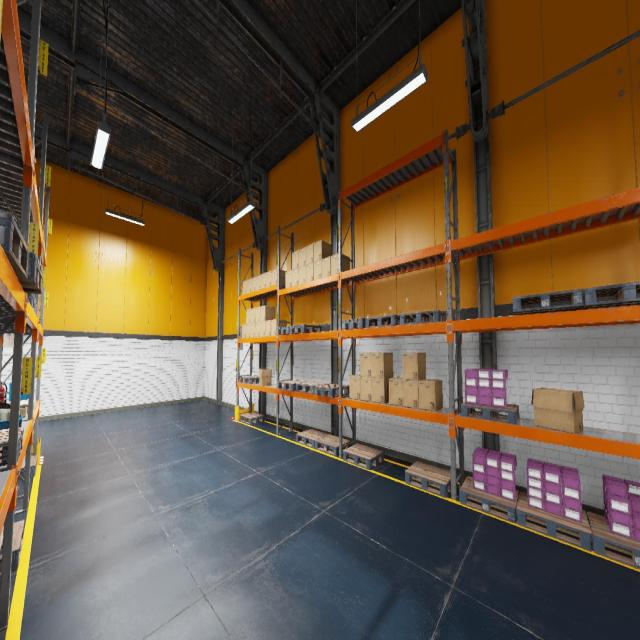box: (532, 388, 584, 433), (418, 379, 442, 412), (402, 352, 426, 380), (371, 352, 393, 378), (372, 377, 393, 403), (403, 380, 419, 408), (330, 254, 350, 275), (389, 377, 403, 406), (314, 240, 332, 261), (360, 376, 372, 401), (349, 374, 360, 400), (271, 268, 286, 286), (360, 353, 371, 377), (271, 319, 286, 335), (260, 305, 275, 321), (258, 369, 272, 385), (322, 256, 330, 277), (298, 246, 306, 266), (298, 265, 306, 284), (306, 262, 313, 282), (314, 260, 321, 280), (306, 244, 313, 264), (285, 270, 292, 288), (292, 250, 298, 269), (292, 268, 298, 286), (20, 399, 28, 412), (260, 272, 266, 288), (8, 400, 24, 405), (265, 320, 270, 336), (250, 322, 255, 338), (255, 306, 260, 322), (266, 271, 271, 287), (251, 276, 256, 292), (260, 321, 265, 336), (256, 275, 261, 290), (19, 407, 26, 417), (255, 322, 260, 336), (250, 308, 255, 322), (246, 308, 250, 324), (246, 323, 250, 338), (242, 323, 246, 338), (247, 278, 251, 292), (242, 280, 246, 294), (33, 400, 35, 409), (27, 90, 28, 98), (34, 141, 34, 156)
pallets: (516, 492, 592, 551), (586, 512, 640, 570), (459, 476, 519, 523), (0, 210, 29, 278), (512, 289, 584, 315), (404, 461, 450, 498), (580, 282, 640, 310), (461, 402, 519, 424), (0, 520, 24, 571), (18, 252, 43, 294), (343, 444, 383, 469), (0, 426, 24, 466), (315, 434, 351, 456), (400, 310, 445, 325), (296, 429, 328, 448), (314, 384, 349, 398), (366, 314, 400, 328), (296, 382, 328, 394), (20, 455, 37, 477), (277, 380, 307, 391), (290, 324, 322, 334), (240, 412, 264, 424), (342, 318, 365, 330), (27, 293, 36, 312), (276, 326, 295, 335), (239, 376, 259, 383), (35, 299, 38, 317)
